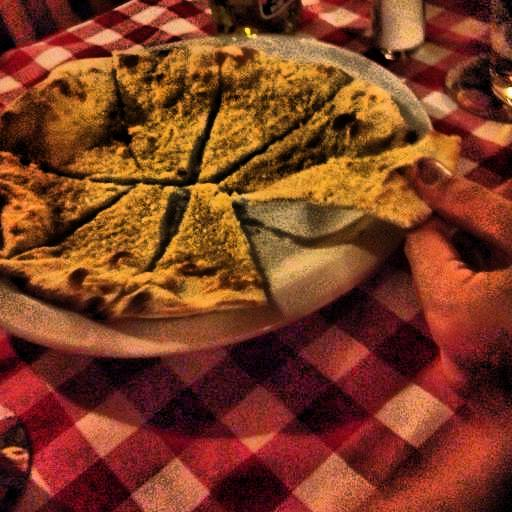pizza: (2, 23, 473, 350)
